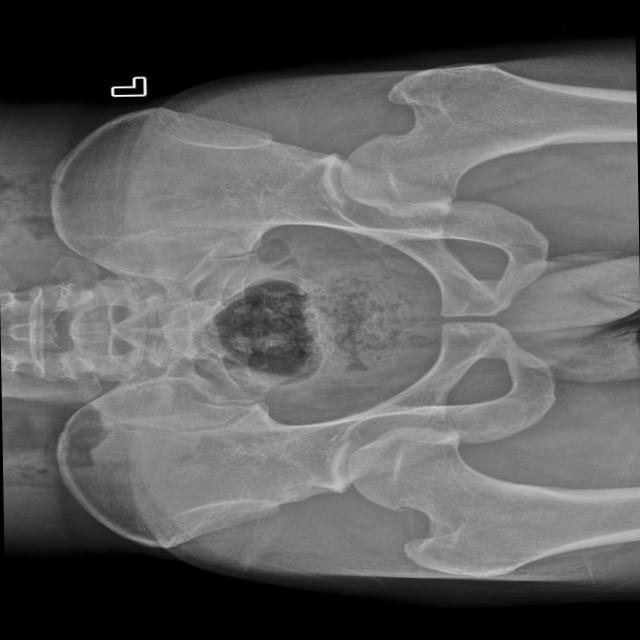normal-left: (340, 59, 637, 216)
normal-right: (347, 425, 640, 576)
